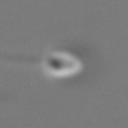normal: (2, 48, 43, 75)
